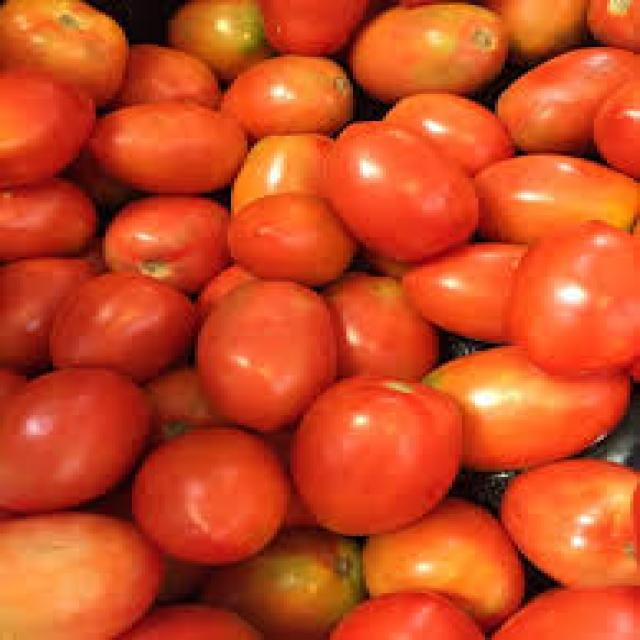Fresh_tomato: (298, 387, 468, 513), (329, 122, 481, 254), (537, 211, 640, 392), (14, 364, 144, 505), (152, 434, 293, 564), (208, 277, 338, 413), (61, 267, 193, 372), (370, 9, 500, 101), (0, 61, 86, 198), (96, 121, 247, 198), (338, 585, 482, 640)
